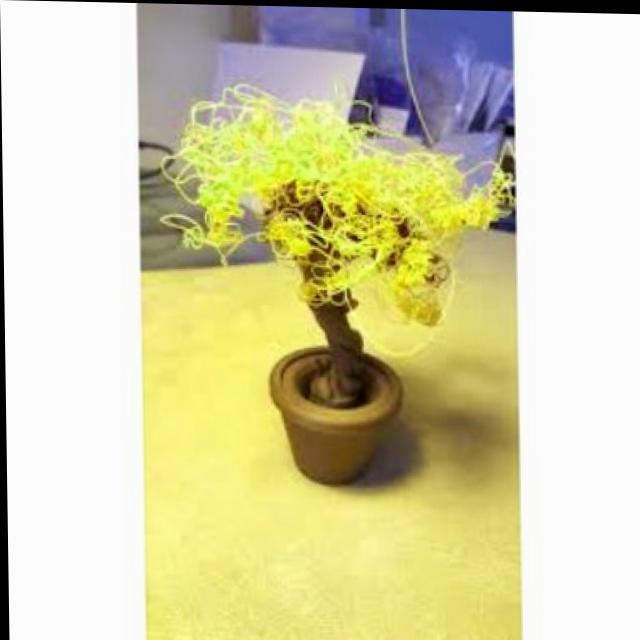spaghetti: (147, 103, 507, 316)
